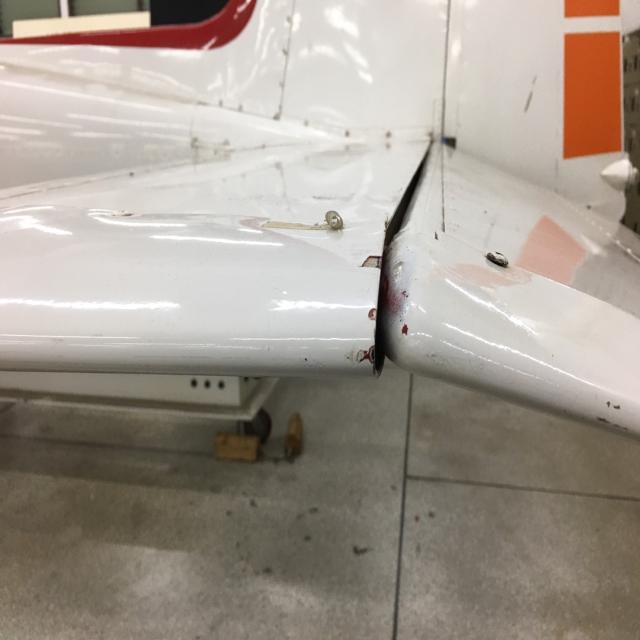Rupture: (331, 240, 391, 378), (584, 390, 632, 439)
